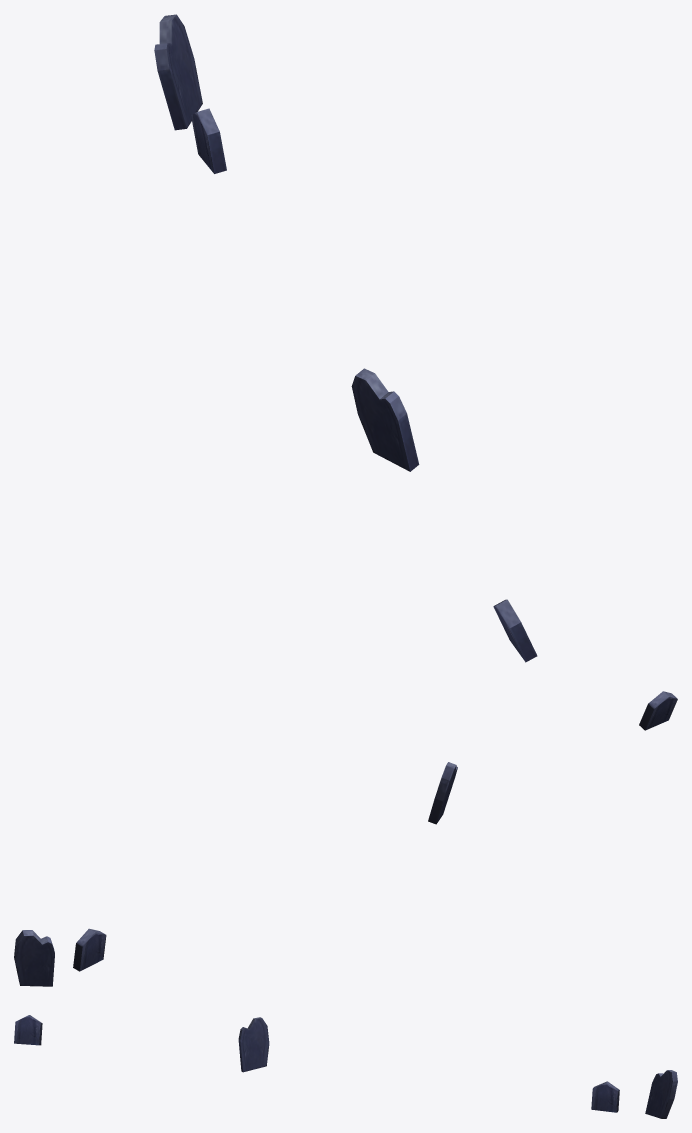
File: Area12_18.fbx
3 views of the same model, one above another, from view 1: azimuth 30°, elevation 25°; view 2: azimuth 150°, elevation 25°; view 3: azimuth 270°, elevation 25° (orthographic). The views are drawn at different scales.
Visible parts, largest first — view 1: Area12_18; view 2: Area12_18; view 3: Area12_18.
Boxes of the visible parts, x1,y1,x2,y2 form: Area12_18: (154, 14, 537, 662); Area12_18: (14, 691, 677, 986); Area12_18: (14, 1015, 677, 1118).
Bounding box in the file's own units: 1043 × 278 × 3541.
